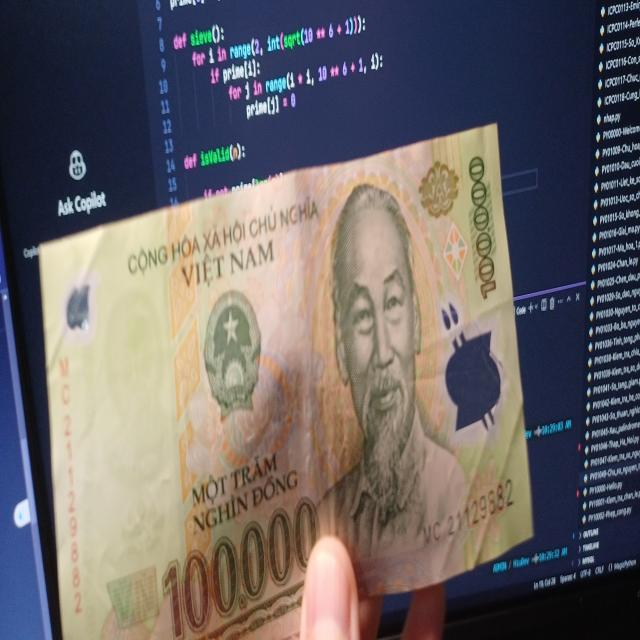100 000 VND: (38, 123, 534, 640)
